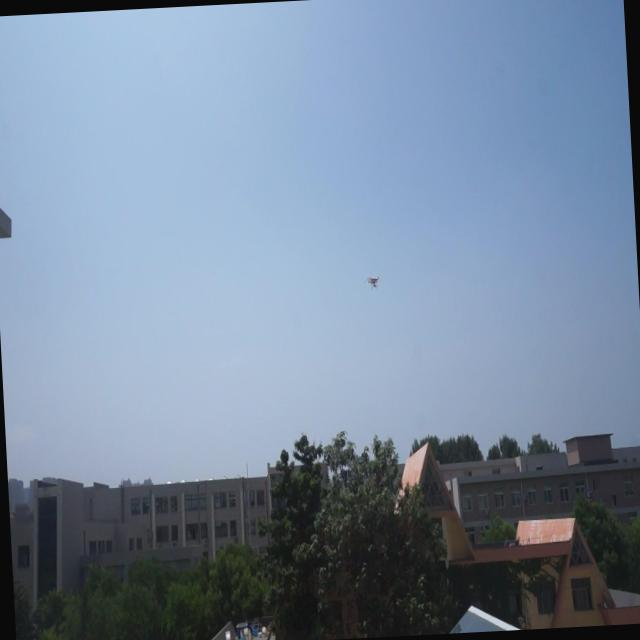drone: (363, 270, 382, 292)
